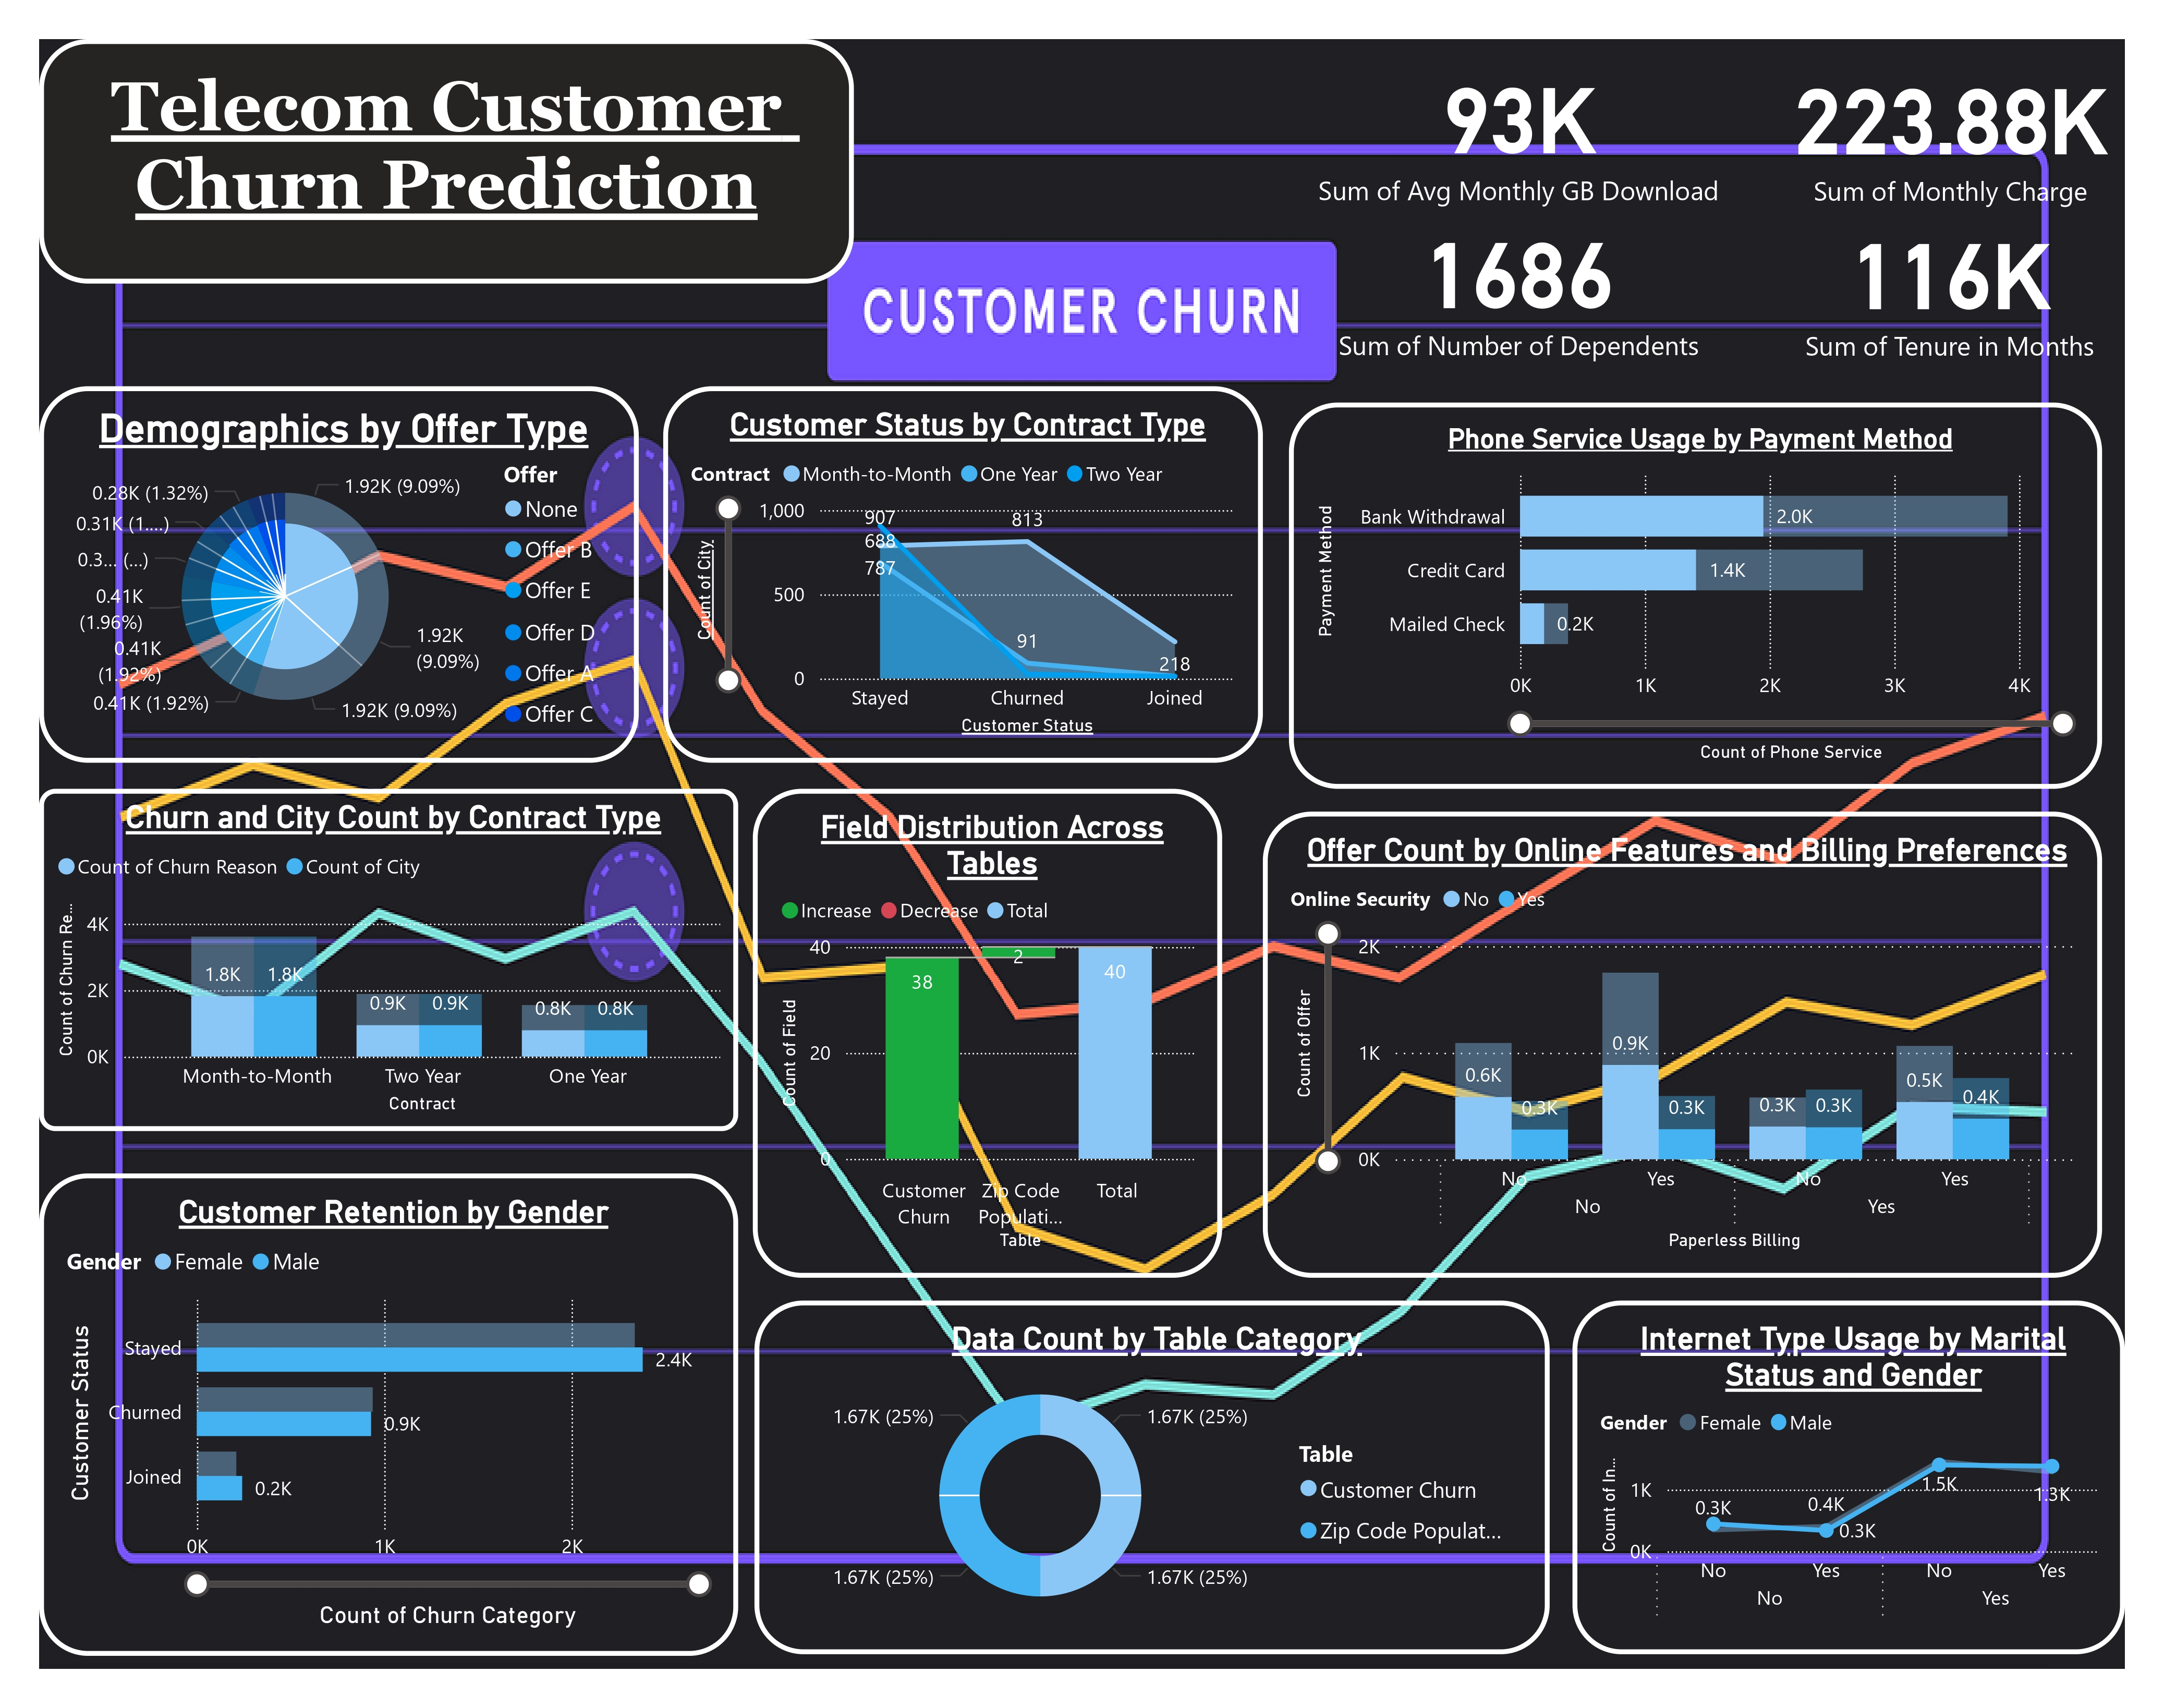

This screenshot's page, from the dashboard's own definition file:
{"tool":"powerbi","page":{"name":"Page 1","canvas":[1280,1000],"ordinal":0},"visuals":[{"type":"card","fields":{"Values":["Sum(telecom_customer_churn.Avg Monthly GB Download)"]},"box":[758.3,0,300,108.3],"z":0},{"type":"textbox","box":[0,0,500,150],"z":1000},{"type":"card","fields":{"Values":["Sum(telecom_customer_churn.Monthly Charge)"]},"box":[1065.7,0,214.3,108.6],"z":2000},{"type":"card","fields":{"Values":["Sum(telecom_customer_churn.Number of Dependents)"]},"box":[767.1,91.4,281.4,115.7],"z":3000},{"type":"card","fields":{"Values":["Sum(telecom_customer_churn.Tenure in Months)"]},"box":[1065,91.7,215,115],"z":4000},{"type":"pieChart","title":"Demographics by Offer Type","fields":{"Category":["telecom_customer_churn.Offer"],"Y":["CountNonNull(telecom_customer_churn.Married)","CountNonNull(telecom_customer_churn.Contract)","CountNonNull(telecom_customer_churn.Gender)"]},"box":[0,213,368,231],"z":5000},{"type":"areaChart","title":"Customer Status by Contract Type","fields":{"Y":["CountNonNull(telecom_customer_churn.City)"],"Category":["telecom_customer_churn.Customer Status"],"Series":["telecom_customer_churn.Contract"]},"box":[383,213,368,231],"z":6000},{"type":"clusteredColumnChart","title":"Churn and City Count by Contract Type","fields":{"Y":["CountNonNull(telecom_customer_churn.Churn Reason)","CountNonNull(telecom_customer_churn.City)"],"Category":["telecom_customer_churn.Contract"]},"box":[0,460,429,210],"z":7000},{"type":"waterfallChart","title":"Field Distribution Across Tables","fields":{"Category":["telecom_data_dictionary.Table"],"Y":["CountNonNull(telecom_data_dictionary.Field)"]},"box":[438,460,288,300],"z":8000},{"type":"clusteredBarChart","title":"Customer Retention by Gender","fields":{"Category":["telecom_customer_churn.Customer Status"],"Y":["CountNonNull(telecom_customer_churn.Churn Category)"],"Series":["telecom_customer_churn.Gender"]},"box":[0,696,429,296],"z":9000},{"type":"donutChart","title":"Data Count by Table Category","fields":{"Category":["telecom_data_dictionary.Table"],"Y":["CountNonNull(telecom_zipcode_population.Population)","CountNonNull(telecom_zipcode_population.Zip Code)"]},"box":[438.6,774.3,488.6,217.1],"z":10000},{"type":"lineChart","title":"Internet Type Usage by Marital Status and Gender","fields":{"Category":["telecom_customer_churn.Internet Service","telecom_customer_churn.Married"],"Y":["CountNonNull(telecom_customer_churn.Internet Type)"],"Series":["telecom_customer_churn.Gender"]},"box":[941.4,774.3,338.6,217.1],"z":11000},{"type":"barChart","title":"Phone Service Usage by Payment Method","fields":{"Category":["telecom_customer_churn.Payment Method"],"Y":["CountNonNull(telecom_customer_churn.Phone Service)"]},"box":[767.1,222.9,498.6,237.1],"z":12000},{"type":"clusteredColumnChart","title":"Offer Count by Online Features and Billing Preferences","fields":{"Category":["telecom_customer_churn.Online Backup","telecom_customer_churn.Paperless Billing"],"Series":["telecom_customer_churn.Online Security"],"Y":["CountNonNull(telecom_customer_churn.Offer)"]},"box":[751.4,474.3,514.3,285.7],"z":13000}]}

Visuals, with their boxes in screenshot pixels (x1, y1, x2, y2):
card - Sum(telecom_customer_churn.Avg Monthly GB Download): [x1=1275, y1=39, x2=1764, y2=215]
textbox: [x1=39, y1=39, x2=854, y2=284]
card - Sum(telecom_customer_churn.Monthly Charge): [x1=1776, y1=39, x2=2125, y2=216]
card - Sum(telecom_customer_churn.Number of Dependents): [x1=1289, y1=188, x2=1748, y2=377]
card - Sum(telecom_customer_churn.Tenure in Months): [x1=1774, y1=189, x2=2125, y2=376]
"Demographics by Offer Type" pieChart: [x1=39, y1=386, x2=639, y2=762]
"Customer Status by Contract Type" areaChart: [x1=663, y1=386, x2=1263, y2=762]
"Churn and City Count by Contract Type" clusteredColumnChart: [x1=39, y1=789, x2=738, y2=1131]
"Field Distribution Across Tables" waterfallChart: [x1=753, y1=789, x2=1222, y2=1278]
"Customer Retention by Gender" clusteredBarChart: [x1=39, y1=1173, x2=738, y2=1656]
"Data Count by Table Category" donutChart: [x1=754, y1=1301, x2=1550, y2=1655]
"Internet Type Usage by Marital Status and Gender" lineChart: [x1=1573, y1=1301, x2=2125, y2=1655]
"Phone Service Usage by Payment Method" barChart: [x1=1289, y1=403, x2=2101, y2=789]
"Offer Count by Online Features and Billing Preferences" clusteredColumnChart: [x1=1263, y1=812, x2=2101, y2=1278]
